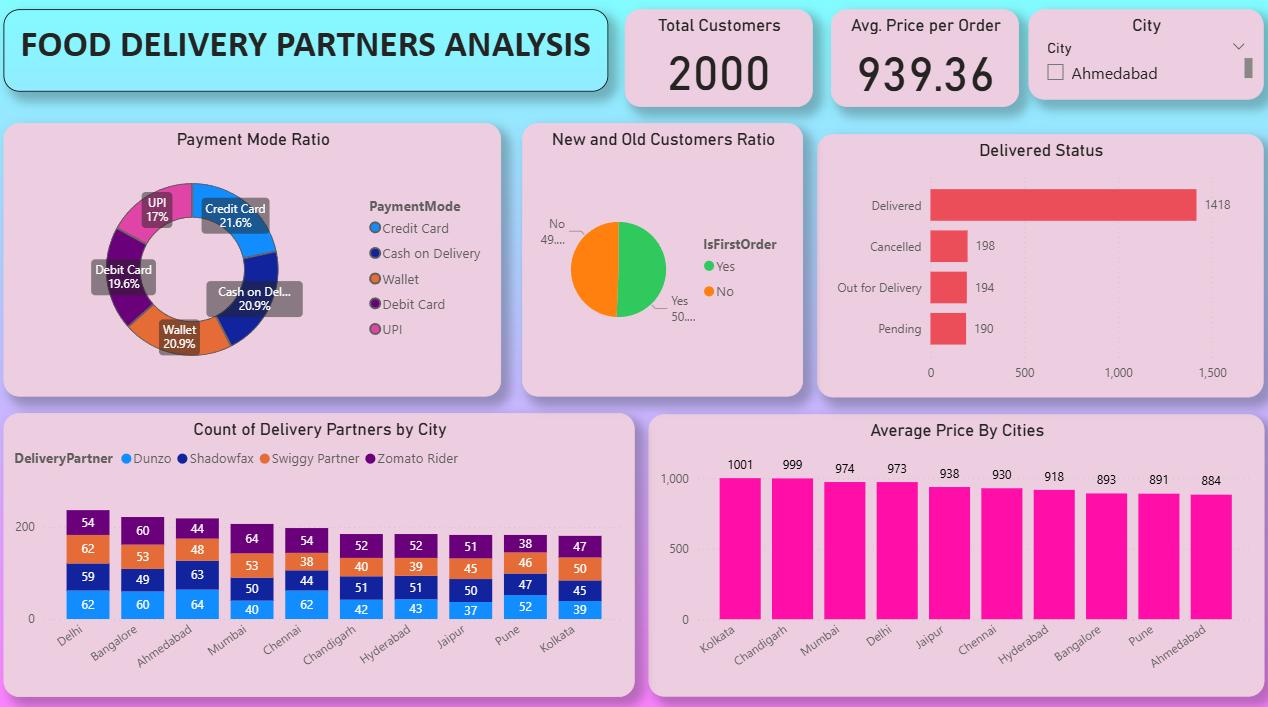

This screenshot's page, from the dashboard's own definition file:
{"tool":"powerbi","page":{"name":"Page 1","canvas":[1280,720],"ordinal":0},"visuals":[{"type":"card","title":"Total Customers ","fields":{"Values":["KPI measures.Customers in 2025"]},"box":[629.2,16.2,187.7,97.2],"z":0},{"type":"card","title":"Avg. Price per  Order","fields":{"Values":["KPI measures.Average Price per customer"]},"box":[834.9,15.7,188.2,97.7],"z":1000},{"type":"donutChart","title":"Payment Mode Ratio","fields":{"Y":["KPI measures.Payments mode"],"Category":["zomato_orders_india_2000.PaymentMode"]},"box":[7.9,130.4,498,273.3],"z":2000},{"type":"columnChart","title":"Average Price By Cities","fields":{"Y":["Avg(zomato_orders_india_2000.FinalAmount)"],"Category":["zomato_orders_india_2000.City"]},"box":[651.9,421,615.8,282.8],"z":3000},{"type":"barChart","title":"Delivered Status","fields":{"Category":["zomato_orders_india_2000.OrderStatus"],"Y":["CountNonNull(zomato_orders_india_2000.OrderID)"]},"box":[821.6,141.2,446.4,263],"z":4000},{"type":"columnChart","title":"Count of Delivery Partners by City","fields":{"Category":["zomato_orders_india_2000.City"],"Y":["CountNonNull(zomato_orders_india_2000.DeliveryPartner)"],"Series":["zomato_orders_india_2000.DeliveryPartner"]},"box":[7.9,419.4,631.5,284.3],"z":5000},{"type":"pieChart","title":"New and Old Customers Ratio","fields":{"Category":["zomato_orders_india_2000.IsFirstOrder"],"Y":["CountNonNull(zomato_orders_india_2000.OrderID)"]},"box":[526.3,130.4,281.2,273.3],"z":6000},{"type":"textbox","box":[8.1,16.2,604.9,82.4],"z":7000},{"type":"slicer","title":"City","fields":{"Values":["zomato_orders_india_2000.City"]},"box":[1032.9,16.2,234.9,90.5],"z":8000}]}

Visuals, with their boxes in screenshot pixels (x1, y1, x2, y2), scaled from the page's 1280x720 canvas onto the 1268x707 screenshot:
"Total Customers " card: 623:16:809:111
"Avg. Price per  Order" card: 827:15:1014:111
"Payment Mode Ratio" donutChart: 8:128:501:396
"Average Price By Cities" columnChart: 646:413:1256:691
"Delivered Status" barChart: 814:139:1256:397
"Count of Delivery Partners by City" columnChart: 8:412:633:691
"New and Old Customers Ratio" pieChart: 521:128:800:396
textbox: 8:16:607:97
"City" slicer: 1023:16:1256:105
